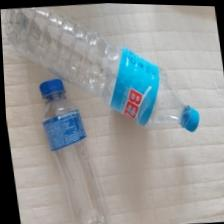plastic: (0, 0, 203, 148), (34, 71, 114, 224)
